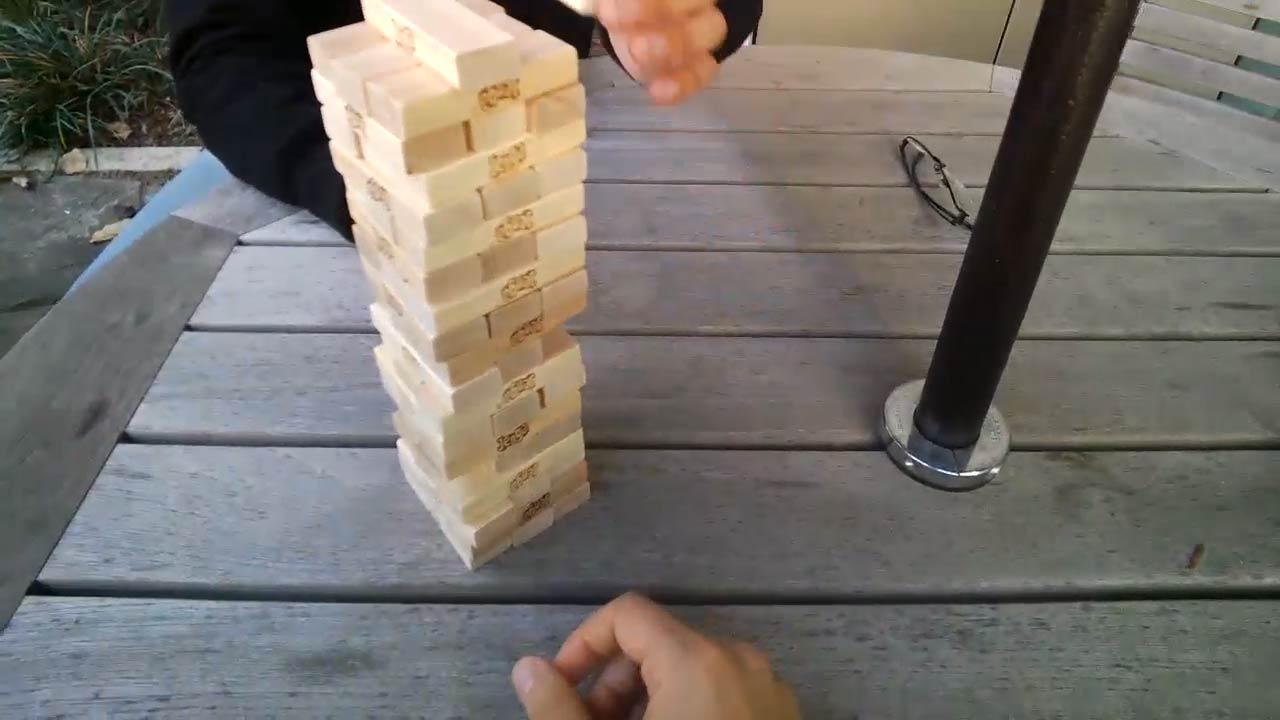hand: (505, 596, 809, 720), (594, 3, 733, 100)
